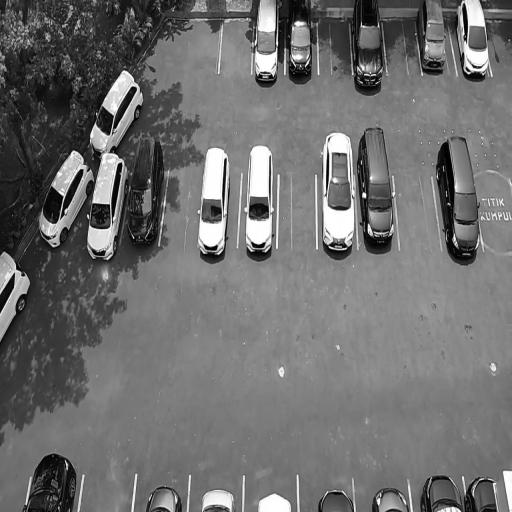Car: (29, 139, 97, 258), (430, 131, 485, 264), (84, 67, 147, 161), (355, 116, 397, 257), (121, 135, 169, 248), (82, 156, 132, 263), (321, 128, 356, 263), (194, 144, 234, 262), (243, 144, 277, 263), (19, 450, 82, 512), (0, 242, 37, 346), (351, 0, 388, 97), (454, 0, 494, 86), (416, 0, 449, 82), (254, 0, 282, 94), (285, 0, 314, 87), (420, 477, 464, 512), (467, 475, 498, 512), (367, 485, 409, 512), (316, 485, 355, 512), (197, 488, 239, 512), (145, 485, 182, 512), (255, 492, 293, 512)
Space Available: (394, 172, 441, 250), (161, 170, 202, 250), (279, 170, 316, 257), (476, 175, 512, 251), (383, 13, 422, 76), (79, 470, 135, 512), (319, 15, 352, 76), (219, 20, 253, 78), (485, 16, 512, 73)
